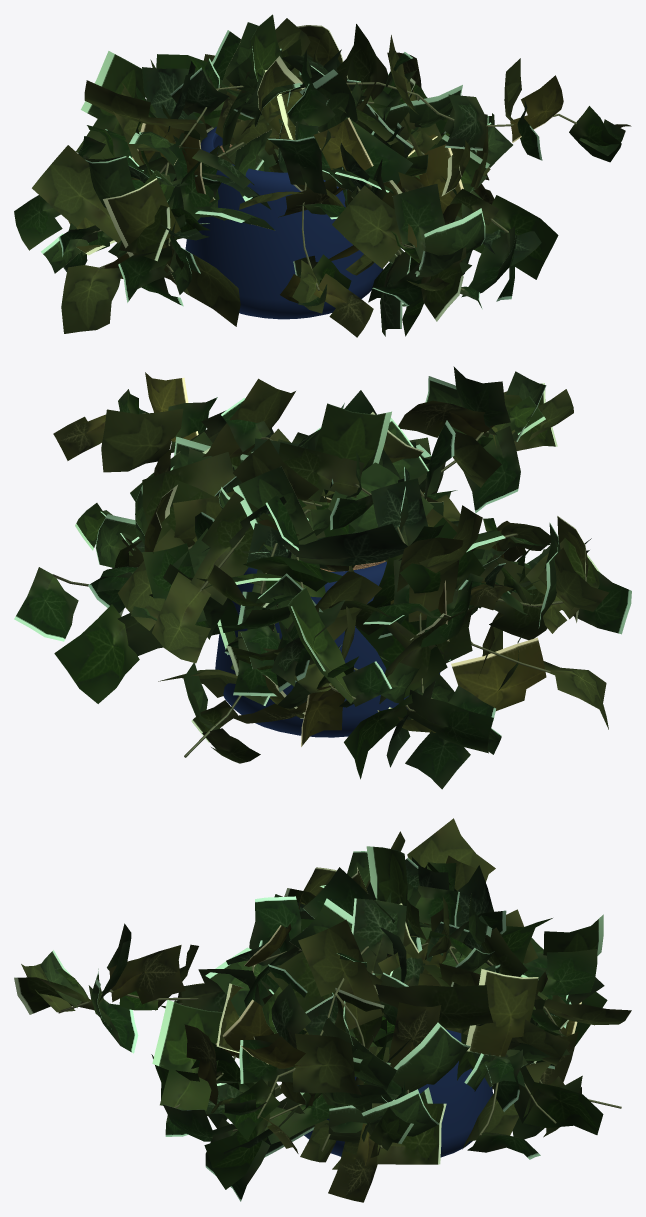
The model's file is uploads_files_5855554_house_ivy_(GLB).glb.
The picture shows the model from 3 angles, top to bottom: view 1: azimuth 30°, elevation 25°; view 2: azimuth 150°, elevation 25°; view 3: azimuth 270°, elevation 25°; orthographic projection. The views are drawn at different scales.
Parts seen in each view (by area): view 1: house_ivy_plant, house_ivy_pot; view 2: house_ivy_plant, house_ivy_pot; view 3: house_ivy_plant, house_ivy_pot.
Boxes of the visible parts, box(x1,y1,x2,y2) form: house_ivy_plant: box(14, 14, 631, 337); house_ivy_pot: box(185, 126, 383, 319); house_ivy_plant: box(14, 366, 631, 789); house_ivy_pot: box(215, 560, 440, 737); house_ivy_plant: box(14, 818, 631, 1202); house_ivy_pot: box(304, 1029, 492, 1157).
Bounding box in the file's own units: 1.1 × 0.5212 × 1.06.
2 materials, 2 textured.
